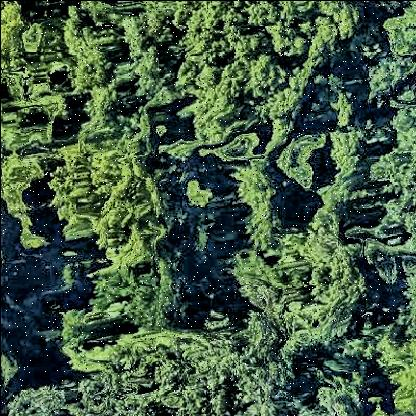tree-top: (171, 2, 358, 108), (85, 335, 299, 416), (225, 228, 367, 344), (46, 138, 168, 266), (61, 6, 168, 104), (87, 263, 194, 336), (367, 7, 416, 109), (1, 151, 55, 243), (222, 162, 280, 236)
